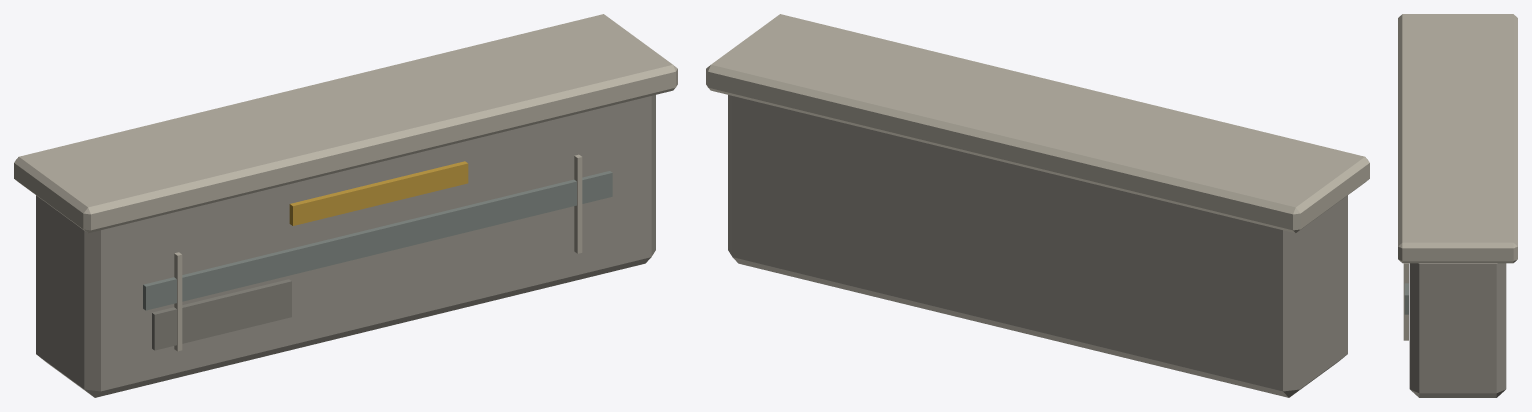
Rendered from ENV_ConcreteBarricade_Low.glb.
3 renders of one model, left to right at view 1: azimuth 30°, elevation 25°; view 2: azimuth 150°, elevation 25°; view 3: azimuth 270°, elevation 25°, orthographic. The views are drawn at different scales.
Visible parts, largest first — view 1: Barrier_Main, Barrier_Cap, Barrier_Inset, Barrier_Patch, Barrier_Hazard, Barrier_Groove_B, Barrier_Groove_A; view 2: Barrier_Main, Barrier_Cap; view 3: Barrier_Cap, Barrier_Main, Barrier_Groove_B, Barrier_Inset.
Boxes of the visible parts, bbox=[...] form: Barrier_Main: bbox=[36, 95, 655, 397]; Barrier_Cap: bbox=[14, 14, 677, 233]; Barrier_Inset: bbox=[143, 171, 612, 310]; Barrier_Patch: bbox=[152, 279, 291, 350]; Barrier_Hazard: bbox=[289, 161, 468, 225]; Barrier_Groove_B: bbox=[574, 154, 582, 253]; Barrier_Groove_A: bbox=[174, 252, 182, 351]; Barrier_Main: bbox=[728, 95, 1347, 397]; Barrier_Cap: bbox=[706, 14, 1369, 233]; Barrier_Cap: bbox=[1398, 14, 1517, 263]; Barrier_Main: bbox=[1409, 263, 1506, 397]; Barrier_Groove_B: bbox=[1403, 263, 1408, 340]; Barrier_Inset: bbox=[1404, 283, 1408, 314].
Size of the model in its own units: 3.12 by 1.01 by 0.68.
